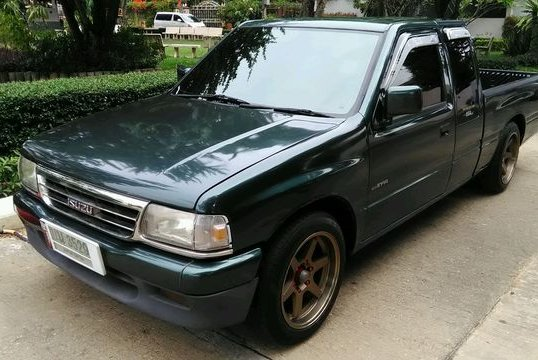pickup: (14, 18, 535, 335)
